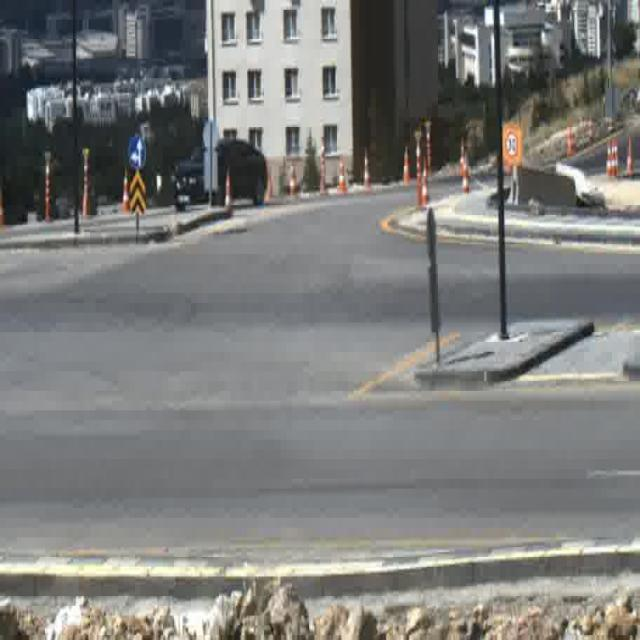Car: (172, 141, 266, 207)
